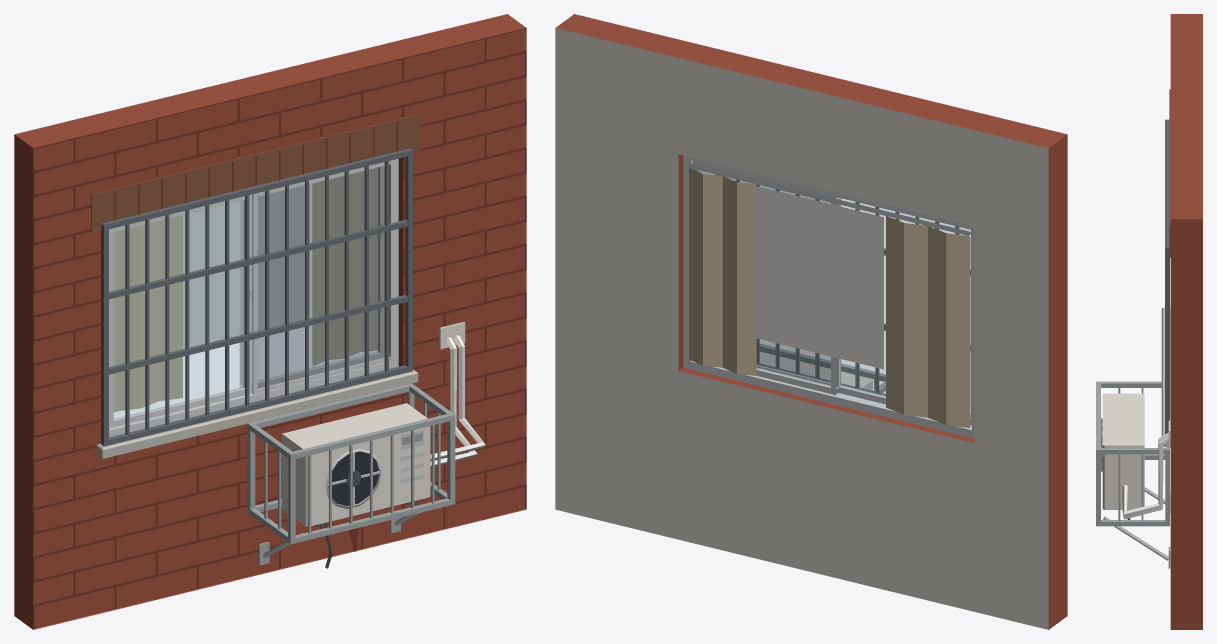
File: SC_Bld_Villa_Wall_Brick_Window_AC_3m.gltf
3 renders of one model, left to right at view 1: azimuth 30°, elevation 25°; view 2: azimuth 150°, elevation 25°; view 3: azimuth 270°, elevation 25°, orthographic. The views are drawn at different scales.
Visible parts, largest first — view 1: SC_Bld_Villa_Wall_Brick_Window_AC_3m; view 2: SC_Bld_Villa_Wall_Brick_Window_AC_3m; view 3: SC_Bld_Villa_Wall_Brick_Window_AC_3m.
Part boxes in pixels (x1,y1,x2,y2): SC_Bld_Villa_Wall_Brick_Window_AC_3m: (14, 14, 526, 629); SC_Bld_Villa_Wall_Brick_Window_AC_3m: (555, 14, 1067, 629); SC_Bld_Villa_Wall_Brick_Window_AC_3m: (1096, 14, 1202, 629).
Bounding box in the file's own units: 3 × 2.8 × 0.66.
Materials: 2 (2 with a texture image).
